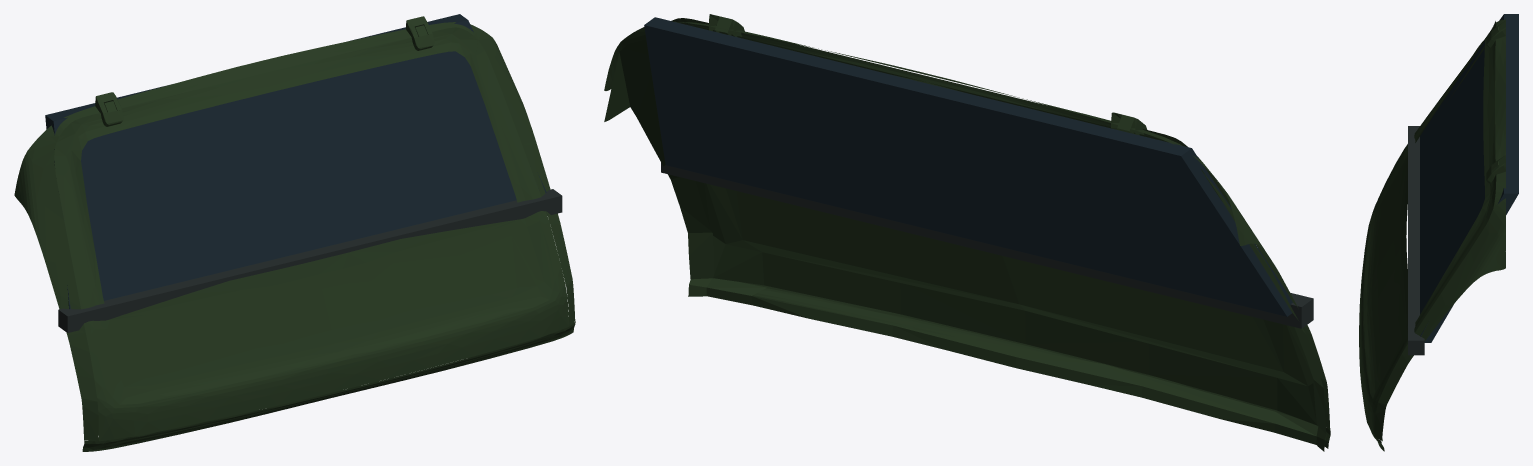
File: niva_tailgate.obj
3 views of the same model, side by side, from view 1: azimuth 30°, elevation 25°; view 2: azimuth 150°, elevation 25°; view 3: azimuth 270°, elevation 25° (orthographic). The views are drawn at different scales.
Parts seen in each view (by area): view 1: Niva_body_rebuilt_108, Niva_solid_rear_window, Niva_rear_window_lower_seal; view 2: Niva_solid_rear_window, Niva_body_rebuilt_11, Niva_body_rebuilt_108, Niva_rear_window_lower_seal; view 3: Niva_body_rebuilt_108, Niva_solid_rear_window, Niva_rear_window_lower_seal.
Boxes of the visible parts, x1,y1,x2,y2 form: Niva_body_rebuilt_108: [14, 16, 575, 451]; Niva_solid_rear_window: [45, 14, 546, 309]; Niva_rear_window_lower_seal: [58, 189, 562, 332]; Niva_solid_rear_window: [644, 17, 1292, 316]; Niva_body_rebuilt_11: [604, 25, 1326, 451]; Niva_body_rebuilt_108: [604, 14, 1330, 448]; Niva_rear_window_lower_seal: [661, 162, 1313, 328]; Niva_body_rebuilt_108: [1359, 19, 1505, 451]; Niva_solid_rear_window: [1420, 14, 1518, 342]; Niva_rear_window_lower_seal: [1408, 126, 1424, 355].
Size of the model in its own units: 1.36 by 0.7515 by 0.4285.
